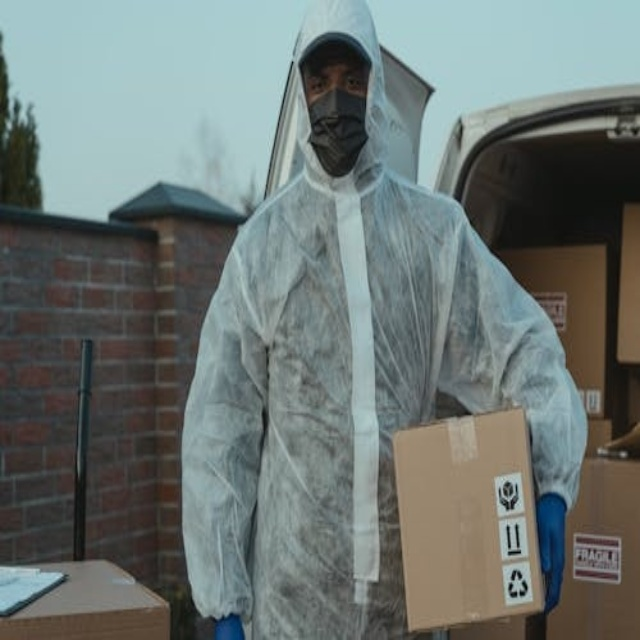Guantes: (532, 488, 568, 619)
Mascara: (307, 92, 368, 176)
Sin_gafas: (305, 63, 365, 106)
